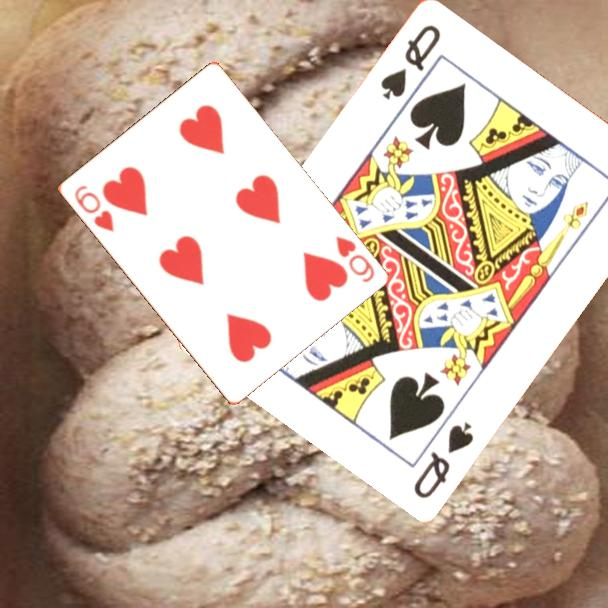h06: (70, 182, 117, 235), (332, 232, 377, 285)
s12: (409, 417, 477, 501), (376, 20, 444, 103)
